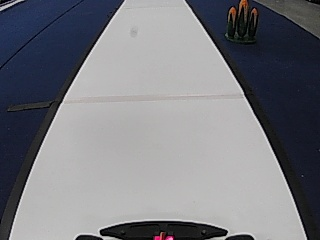corn: (222, 0, 259, 43)
